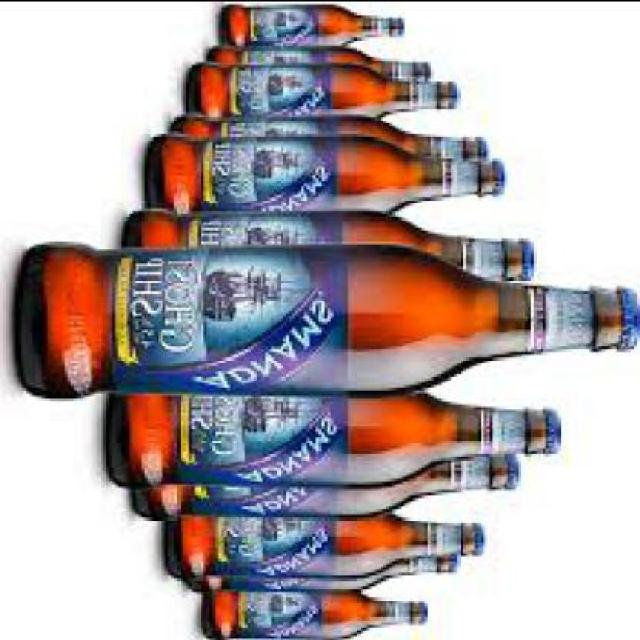GLASS: (15, 246, 628, 400), (112, 388, 546, 486), (151, 136, 495, 218), (127, 212, 525, 282), (135, 452, 511, 522), (177, 513, 478, 579), (186, 63, 451, 122), (177, 116, 481, 158), (186, 549, 454, 593), (202, 590, 423, 638), (209, 46, 422, 83), (230, 5, 396, 44)
METAL: (622, 289, 638, 354), (548, 412, 564, 454), (513, 455, 529, 494), (492, 160, 508, 198), (478, 525, 490, 560), (448, 89, 463, 113), (528, 244, 537, 282), (398, 22, 407, 41), (425, 69, 437, 83), (454, 558, 463, 576), (484, 138, 490, 160), (428, 605, 434, 623)
